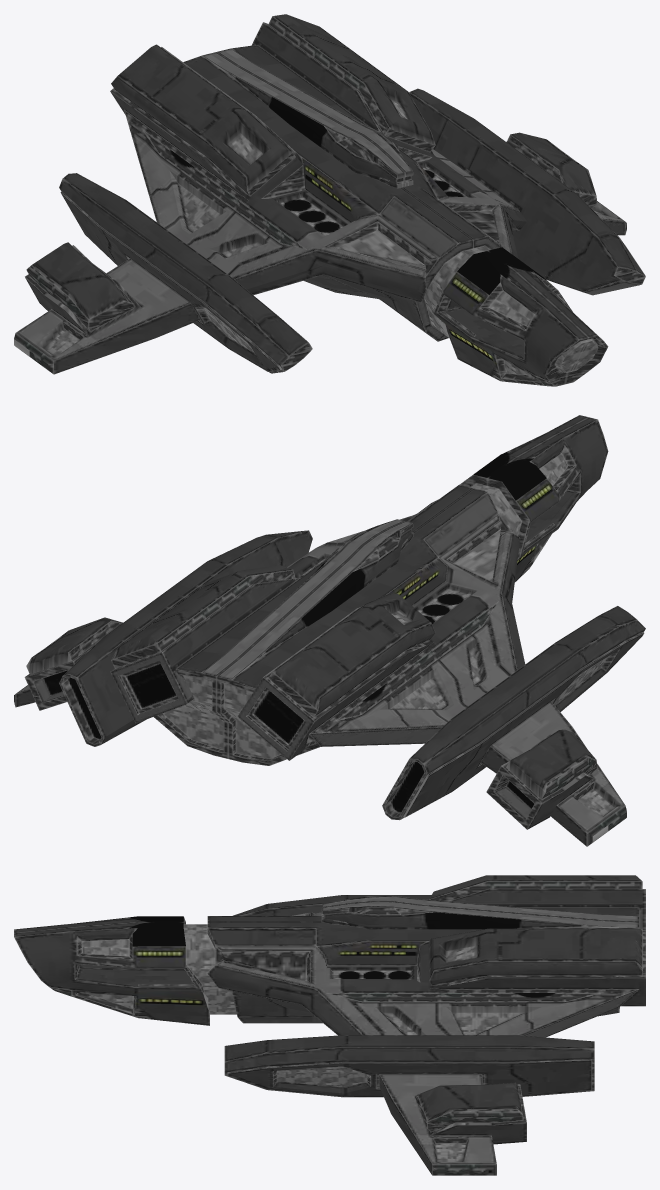
File: enemy_battleship.glb
3 views of the same model, one above another, from view 1: azimuth 30°, elevation 25°; view 2: azimuth 150°, elevation 25°; view 3: azimuth 270°, elevation 25° (orthographic). The views are drawn at different scales.
Visible parts, largest first — view 1: Cube_2_Mat_0; view 2: Cube_2_Mat_0; view 3: Cube_2_Mat_0.
Part boxes in pixels (bbox=[...]): Cube_2_Mat_0: bbox=[14, 14, 645, 386]; Cube_2_Mat_0: bbox=[14, 415, 645, 846]; Cube_2_Mat_0: bbox=[14, 875, 645, 1175].
Bounding box in the file's own units: 177 × 54.59 × 199.
1 material, 1 textured.
